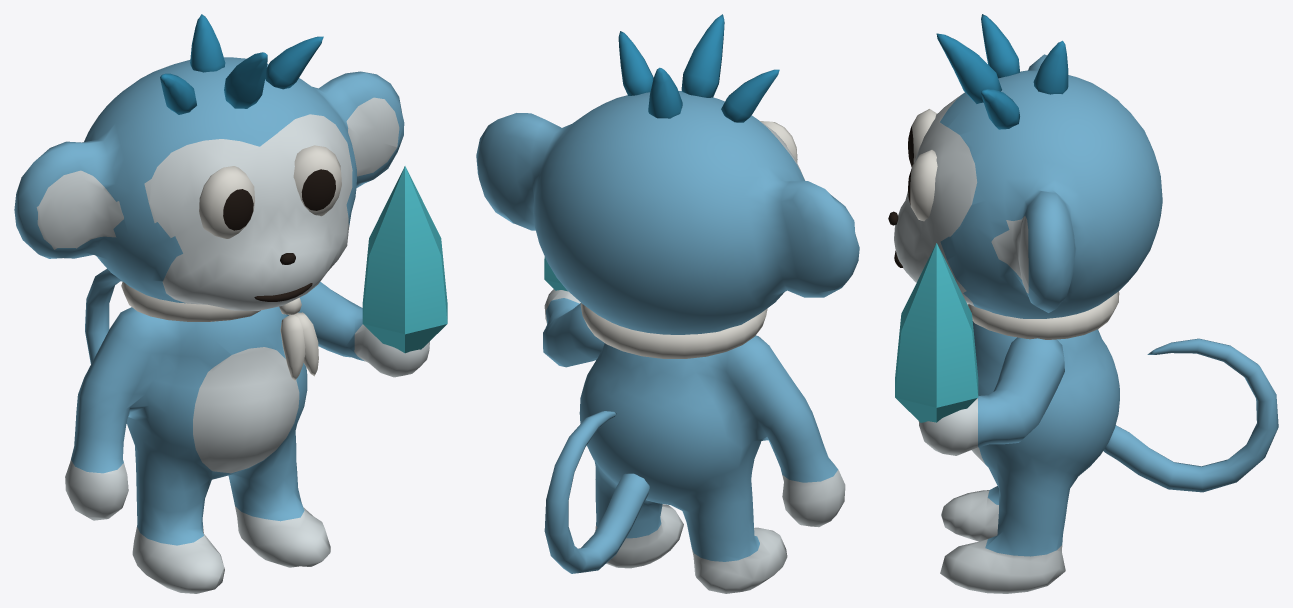
The picture shows the model from 3 angles, left to right: view 1: azimuth 30°, elevation 25°; view 2: azimuth 150°, elevation 25°; view 3: azimuth 270°, elevation 25°; orthographic projection. The views are drawn at different scales.
Parts seen in each view (by area): view 1: gelo_2_cabeca, gelo_0_corpo, gelo_3_braco, gelo_1_cauda; view 2: gelo_2_cabeca, gelo_0_corpo, gelo_1_cauda, gelo_3_braco; view 3: gelo_2_cabeca, gelo_0_corpo, gelo_3_braco, gelo_1_cauda.
Part boxes in pixels (x1,y1,x2,y2): gelo_2_cabeca: (14, 14, 404, 310); gelo_0_corpo: (65, 281, 330, 593); gelo_3_braco: (287, 166, 447, 377); gelo_1_cauda: (85, 269, 126, 423); gelo_2_cabeca: (476, 14, 859, 334); gelo_0_corpo: (579, 303, 845, 593); gelo_1_cauda: (544, 411, 649, 573); gelo_3_braco: (543, 257, 604, 367); gelo_2_cabeca: (888, 14, 1162, 318); gelo_0_corpo: (940, 291, 1119, 593); gelo_3_braco: (895, 243, 1064, 455); gelo_1_cauda: (1103, 338, 1278, 492).
Bounding box in the file's own units: 0.7918 × 1.06 × 0.7076.
